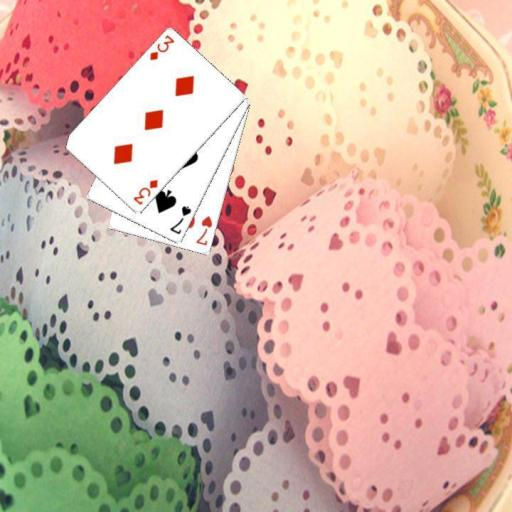card-corner: (146, 32, 176, 62), (130, 176, 159, 207), (167, 203, 193, 236), (193, 212, 214, 248)
